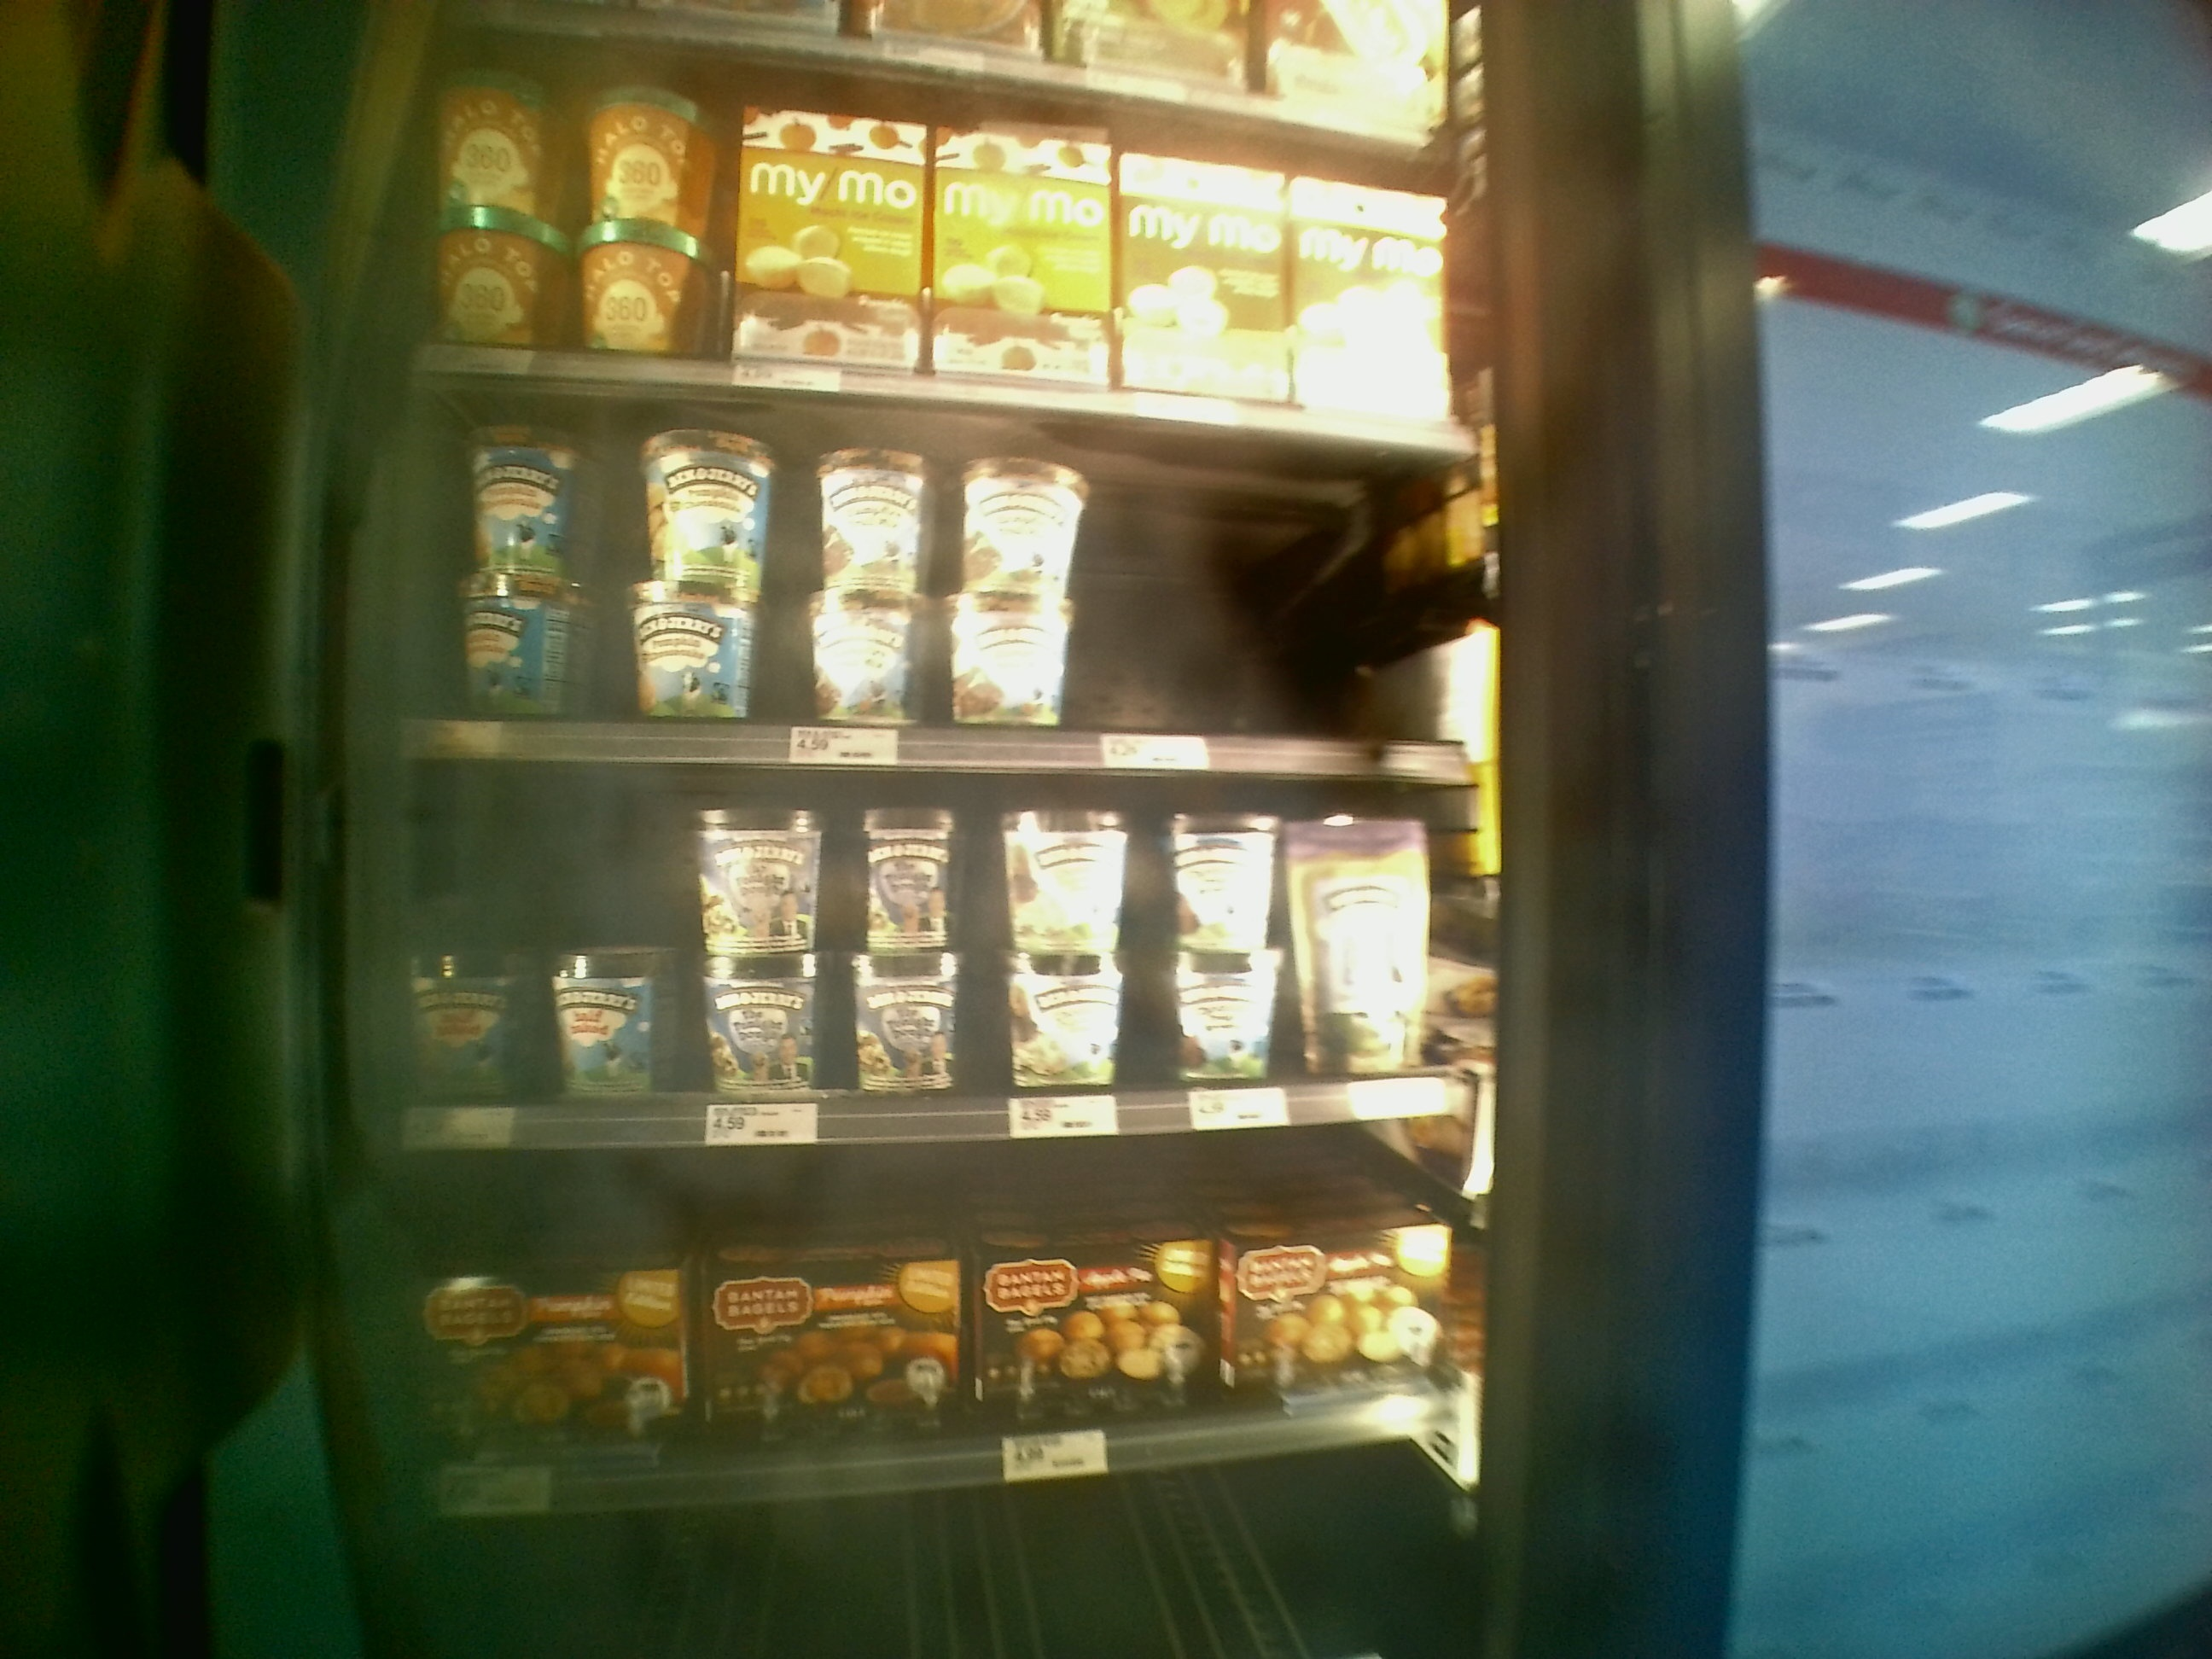shelf: (374, 1110, 1465, 1556), (376, 349, 1470, 770), (338, 746, 1489, 1105)
